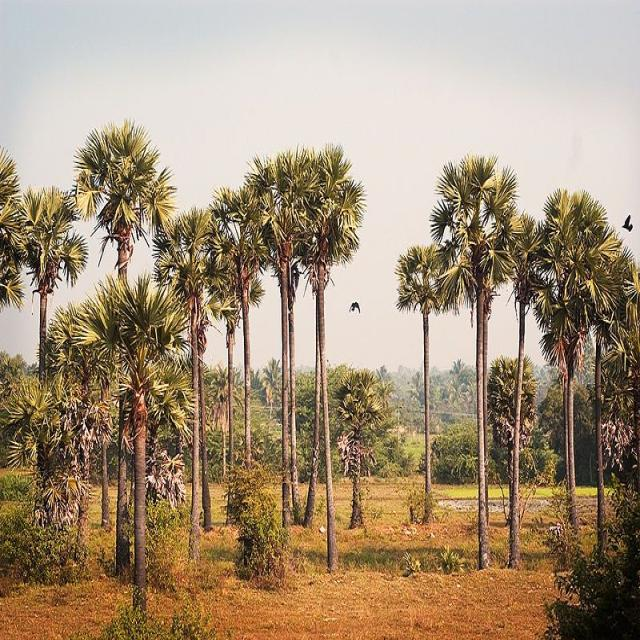Plam-Tree: (44, 130, 182, 606), (219, 157, 382, 281), (434, 136, 545, 310), (80, 163, 191, 269)
